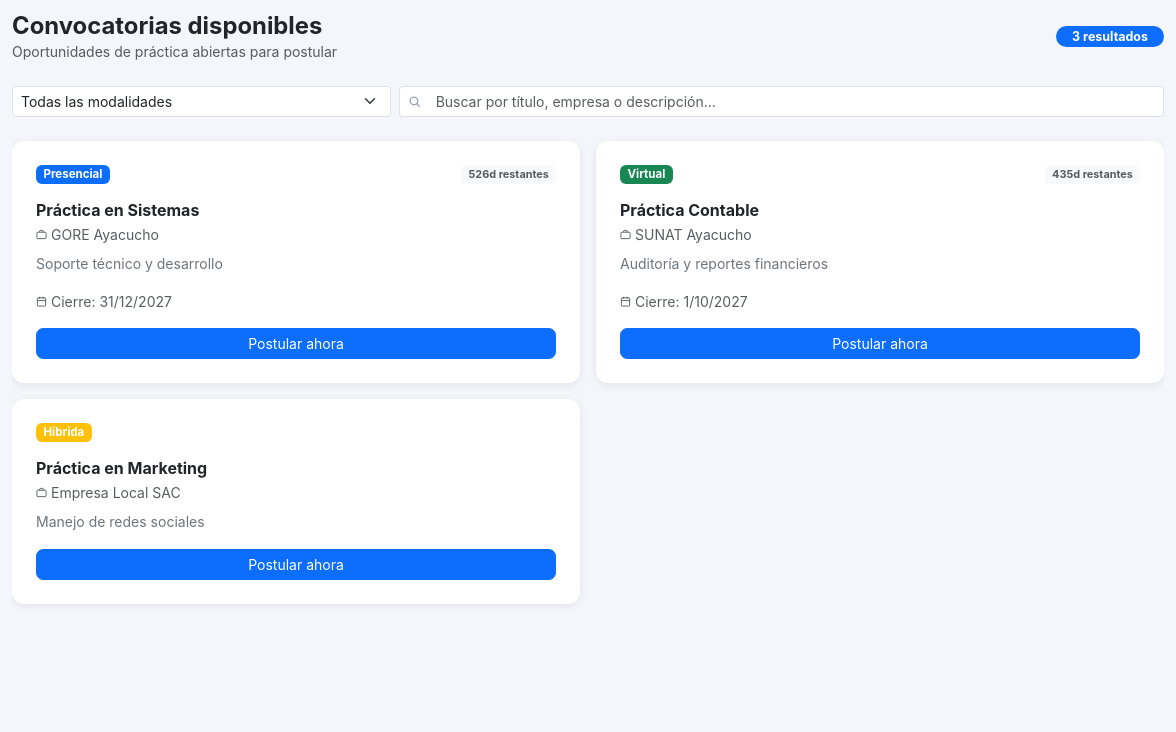
Convocatorias — filtros › el contador de resultados es correcto al filtrar
Check: the text "3 resultados" is shown, box left=1056, top=26, right=1164, bottom=47
Select "Presencial" in the dropdown named "Filtrar por modalidad" at (201, 101), box left=12, top=86, right=391, bottom=117
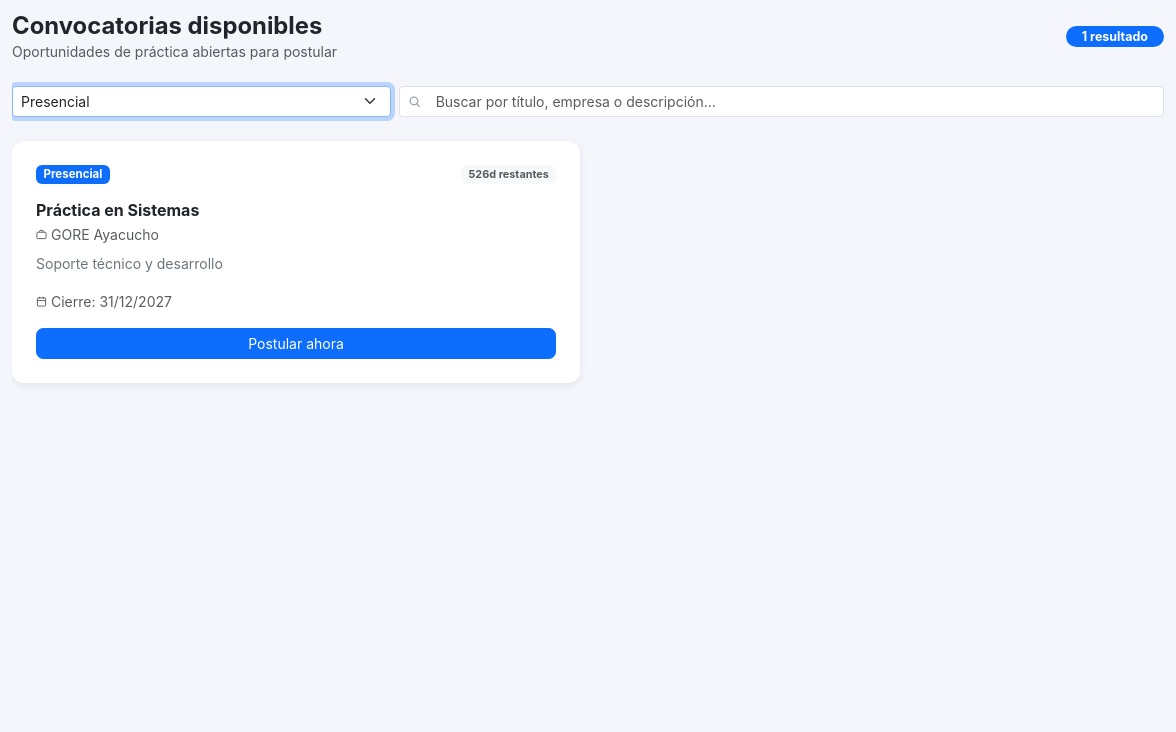
Check: the text "1 resultado" is shown, box left=1066, top=26, right=1164, bottom=47
